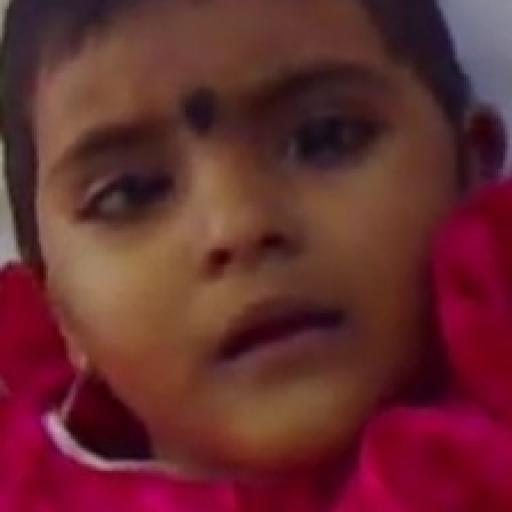Autism: (39, 23, 512, 489)
